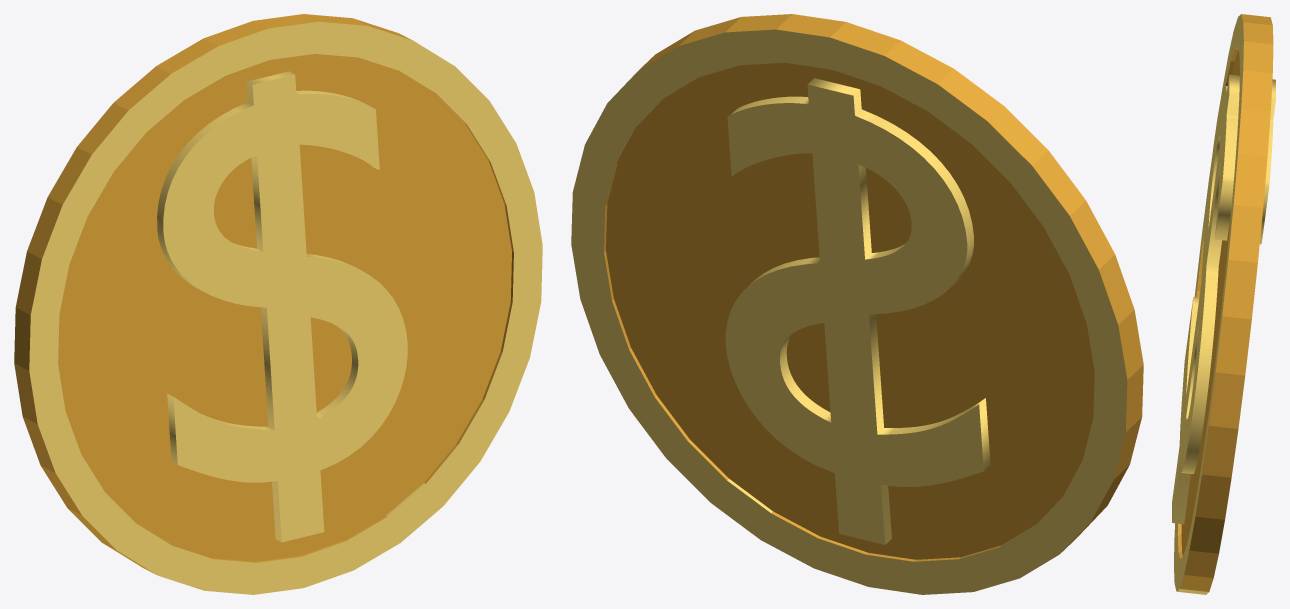
Rendered from dollar_sign-BGQ-6LNi.glb.
3 views of the same model, side by side, from view 1: azimuth 30°, elevation 25°; view 2: azimuth 150°, elevation 25°; view 3: azimuth 270°, elevation 25° (orthographic). The views are drawn at different scales.
Parts seen in each view (by area): view 1: Text; view 2: Text; view 3: Text.
Boxes of the visible parts, x1,y1,x2,y2 form: Text: (14, 14, 542, 594); Text: (571, 14, 1143, 594); Text: (1172, 14, 1275, 594).
Bounding box in the file's own units: 0.9783 × 0.9772 × 0.1748.
